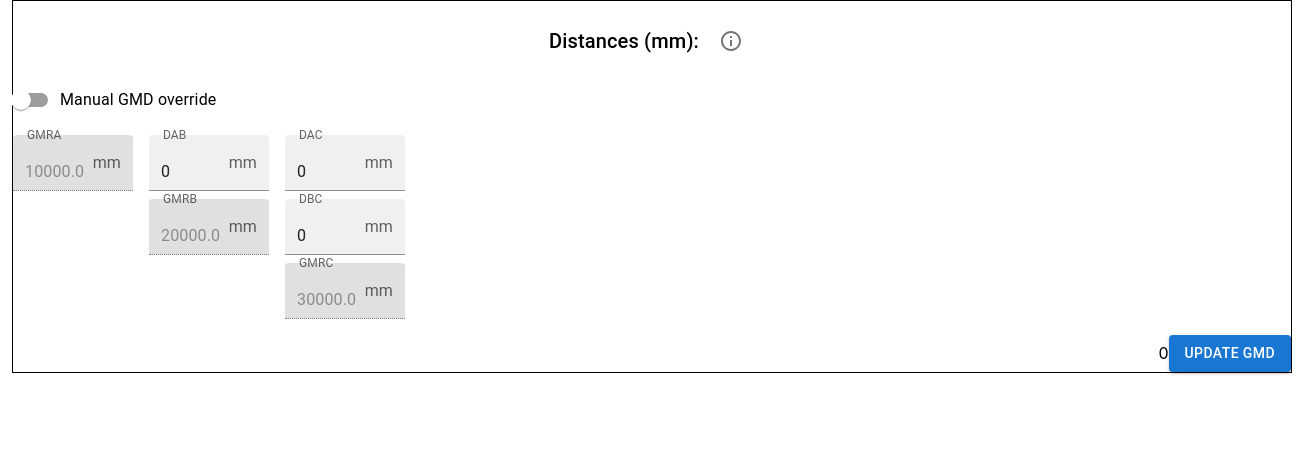
Manual GMD override and handleManualGmdChange › disables all distance inputs when manual override is enabled
This screenshot has width=1304, height=468.
Click the switch labelled "Manual GMD override": (114, 100) [11, 90, 216, 110]
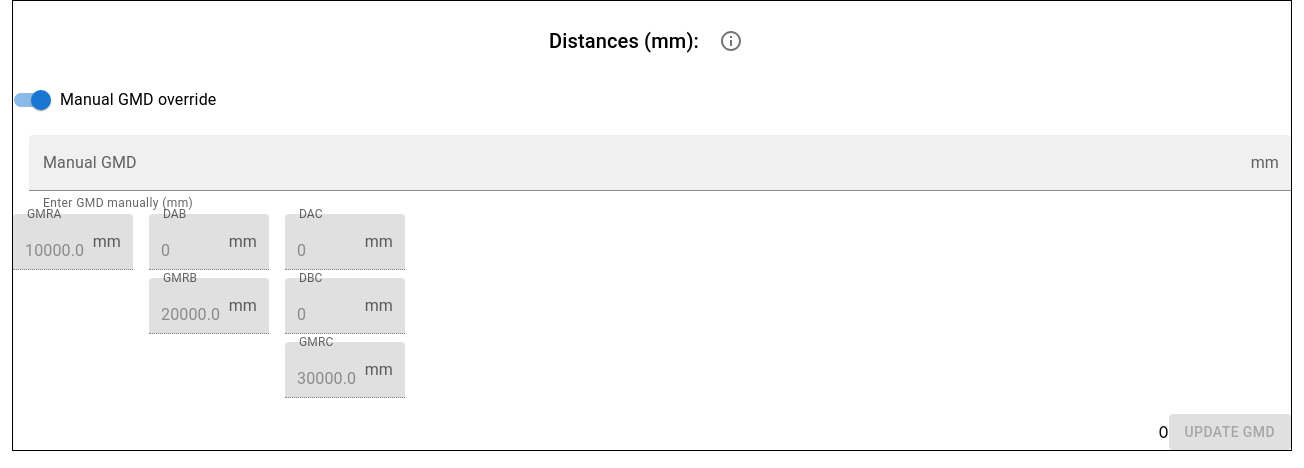
Result: the field named "manual-gmd" is enabled at [29, 135, 1243, 191]
Result: the field labelled "DAB" is disabled at [149, 214, 221, 270]
Result: the field labelled "DAC" is disabled at [285, 214, 357, 270]
